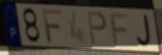4: (69, 10, 87, 46)
8: (22, 7, 41, 44)
F: (41, 9, 63, 44), (109, 12, 130, 47)
J: (136, 14, 153, 48)
P: (85, 10, 108, 47)
